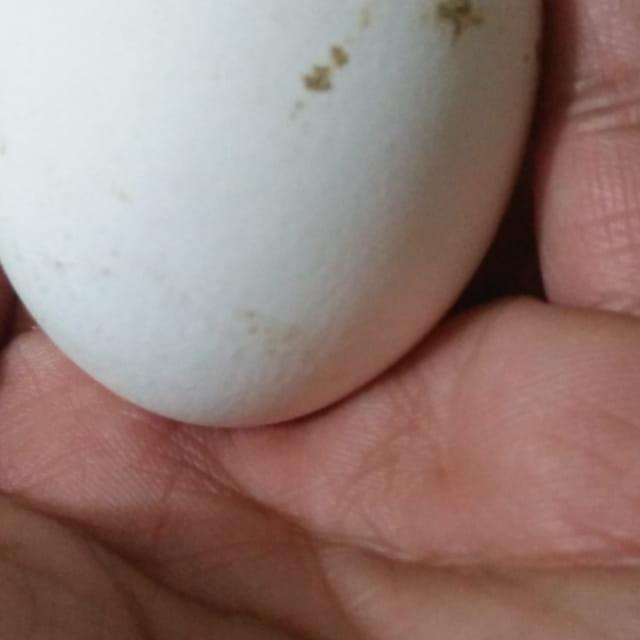egg: (0, 0, 548, 431)
